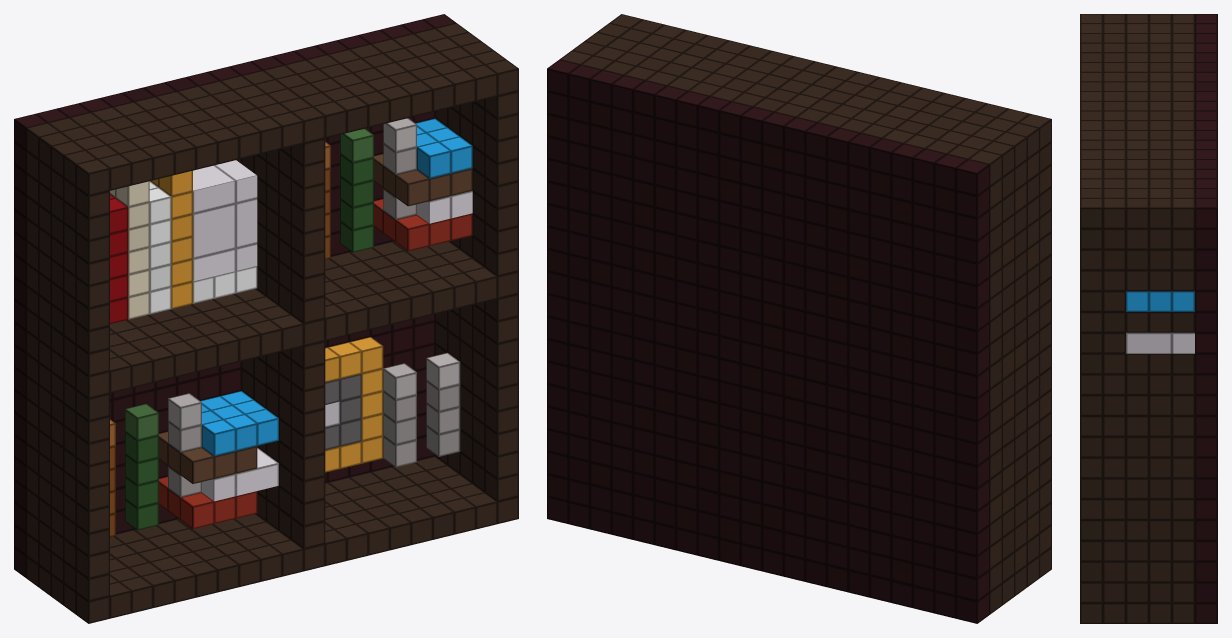
Rendered from shelf_wall_tile.glb.
The picture shows the model from 3 angles, left to right: view 1: azimuth 30°, elevation 25°; view 2: azimuth 150°, elevation 25°; view 3: azimuth 270°, elevation 25°; orthographic projection. The views are drawn at different scales.
Visible parts, largest first — view 1: shelf_wall_tile; view 2: shelf_wall_tile; view 3: shelf_wall_tile.
Part boxes in pixels (<box>): shelf_wall_tile: <box>14,14,518,623</box>; shelf_wall_tile: <box>547,14,1051,623</box>; shelf_wall_tile: <box>1080,14,1217,623</box>.
Size of the model in its own units: 1 by 1 by 0.3.
17 materials, 17 textured.
